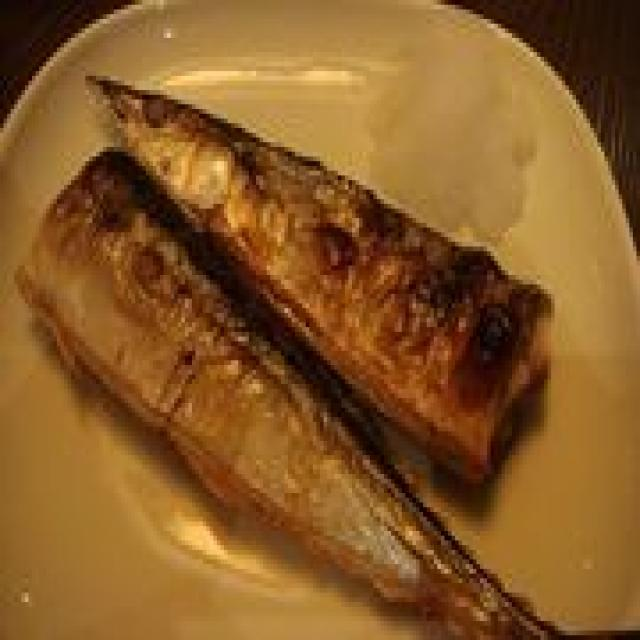熟制海鲜: (14, 14, 569, 640)
